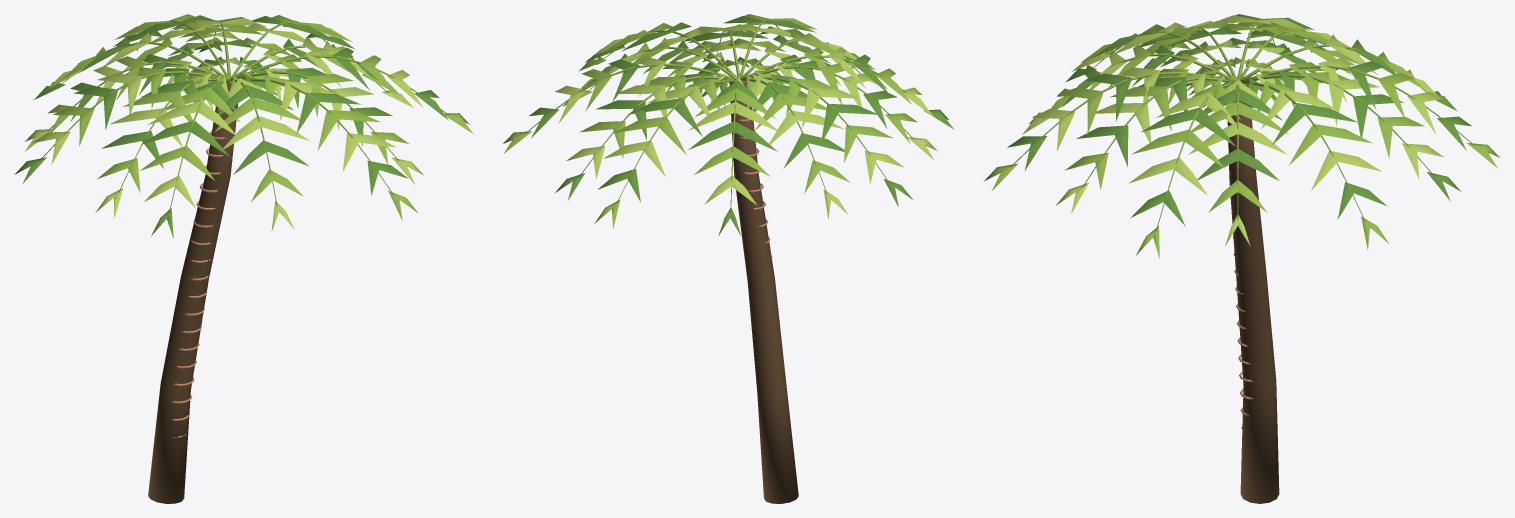
Rendered from harbour_palm.glb.
3 views of the same model, side by side, from view 1: azimuth 30°, elevation 25°; view 2: azimuth 150°, elevation 25°; view 3: azimuth 270°, elevation 25° (orthographic). The views are drawn at different scales.
Visible parts, largest first — view 1: HarbourPalm_Geometry; view 2: HarbourPalm_Geometry; view 3: HarbourPalm_Geometry.
Boxes of the visible parts, box(x1,y1,x2,y2) form: HarbourPalm_Geometry: box(14, 14, 473, 503); HarbourPalm_Geometry: box(503, 14, 954, 503); HarbourPalm_Geometry: box(984, 14, 1499, 503).
Size of the model in its own units: 5.78 by 6.02 by 6.09.
